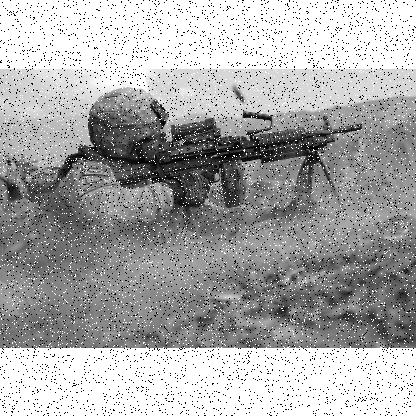gun: (109, 110, 361, 212), (14, 154, 40, 182)
